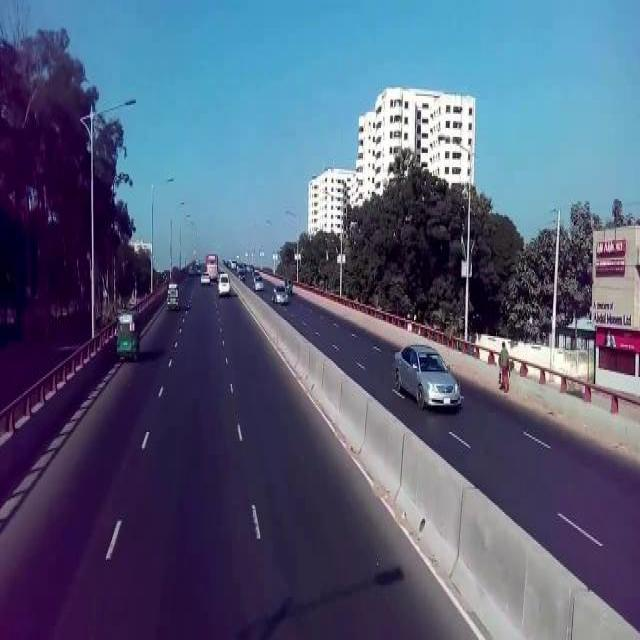vehicle: (393, 341, 463, 415), (114, 310, 142, 365), (166, 279, 182, 313), (218, 271, 232, 300), (205, 253, 217, 279), (285, 277, 294, 297)
